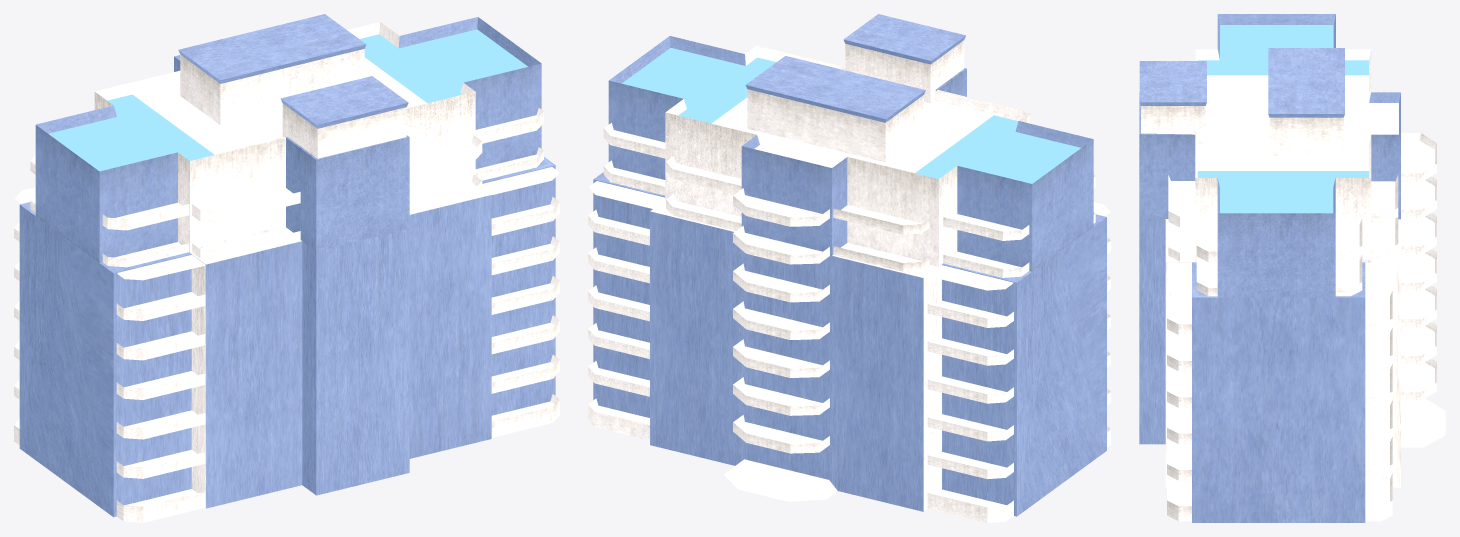
File: ORB_8_8S_Detail_3.fbx
3 views of the same model, side by side, from view 1: azimuth 30°, elevation 25°; view 2: azimuth 150°, elevation 25°; view 3: azimuth 270°, elevation 25° (orthographic). The views are drawn at different scales.
Visible parts, largest first — view 1: ORB_8_8S_Detail_3; view 2: ORB_8_8S_Detail_3; view 3: ORB_8_8S_Detail_3.
Boxes of the visible parts, left/top/right/bottom form: ORB_8_8S_Detail_3: left=14, top=14, right=559, bottom=522; ORB_8_8S_Detail_3: left=588, top=14, right=1110, bottom=522; ORB_8_8S_Detail_3: left=1139, top=14, right=1445, bottom=522.
Size of the model in its own units: 3002 by 2406 by 1951.
